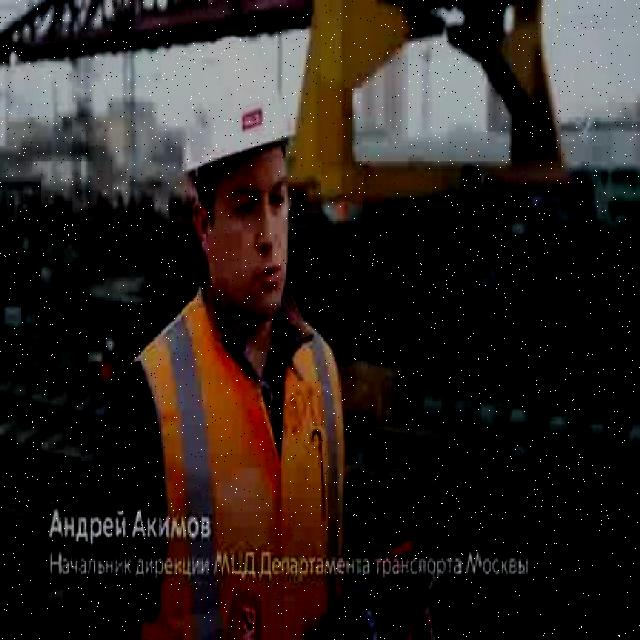Helmet: (182, 44, 296, 178)
Mask: (127, 272, 350, 638)
